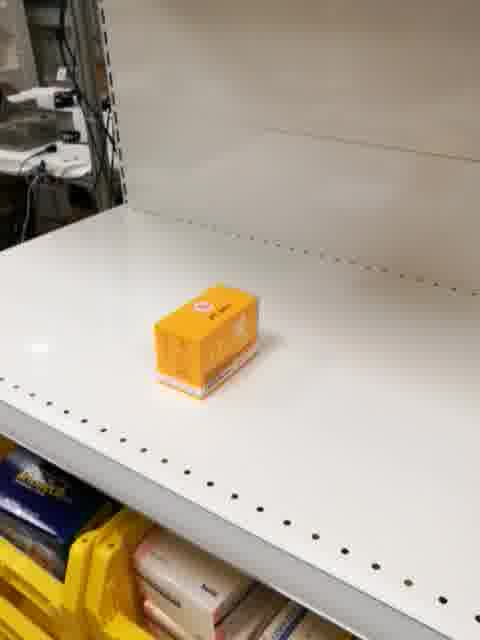jasminetea: (151, 281, 260, 402)
